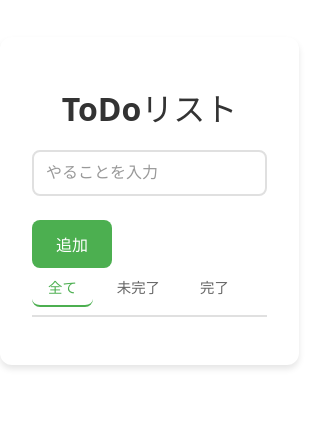
Test case: ToDoアプリ › ToDoを追加できる
The width and height of the screenshot is (332, 425).
「買い物」と入力
Type "買い物" into the field with placeholder "やることを入力". click: (150, 173)
box: top-left (32, 150), bottom-right (267, 196)
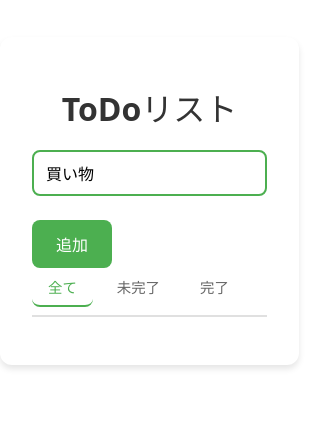
追加ボタンをクリック
Click the button "追加". click: (72, 244)
box: top-left (32, 220), bottom-right (112, 268)
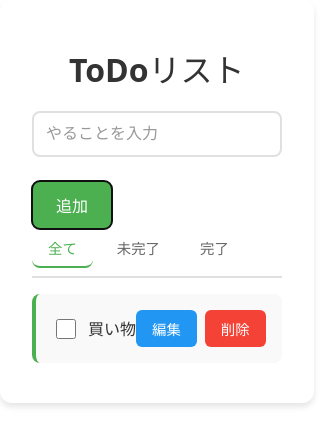
Result: the text "買い物" is shown at top-left (88, 317), bottom-right (136, 341)
